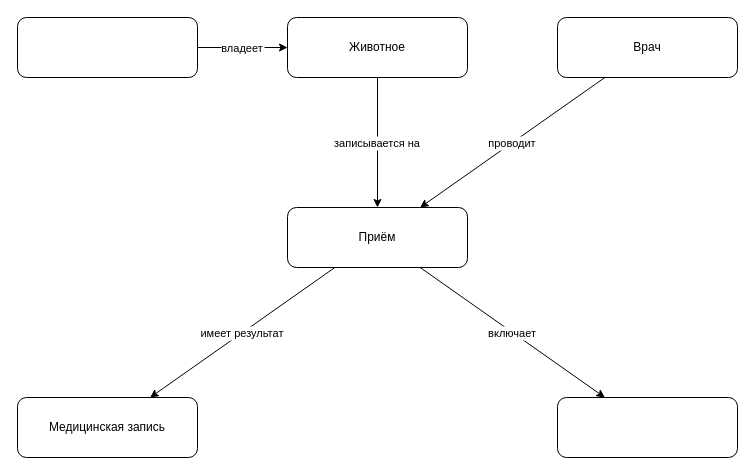
The diagram is 755 pixels wide and 475 high, and some of its shapes have lost their labels. The centre of each missing label's shape, as x and y in pixels:
"Владелец" goes at (x=107, y=47).
"Услуга" goes at (x=647, y=427).
